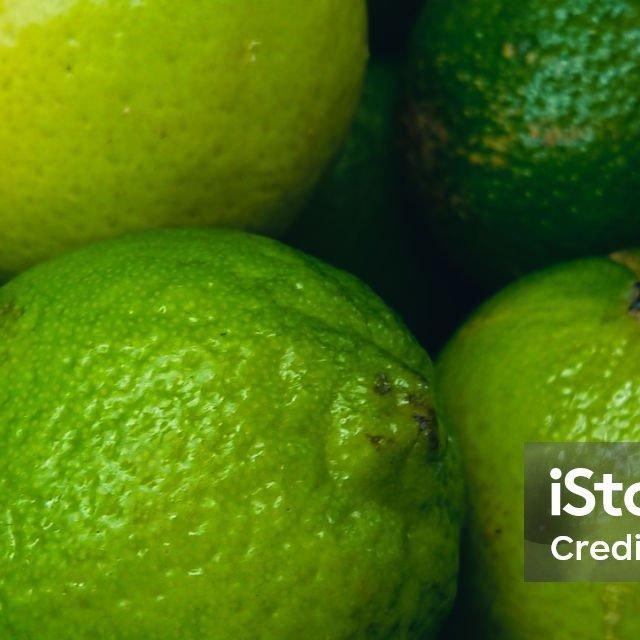lime: (0, 230, 476, 640)
